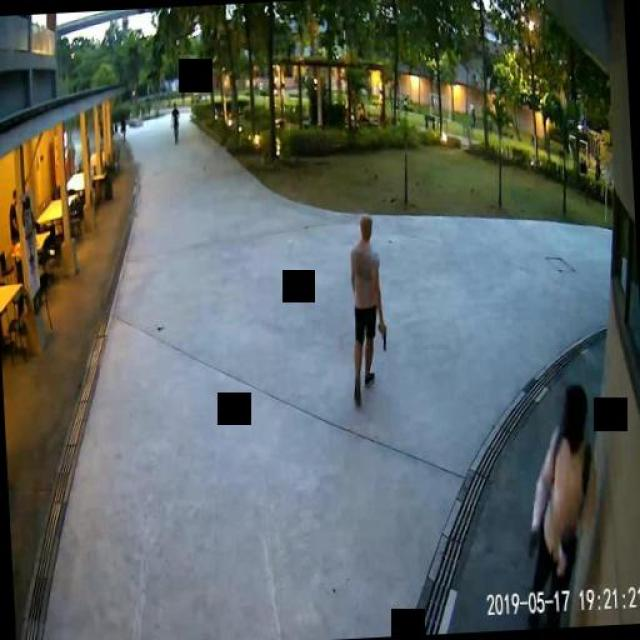gun: (376, 320, 385, 350)
